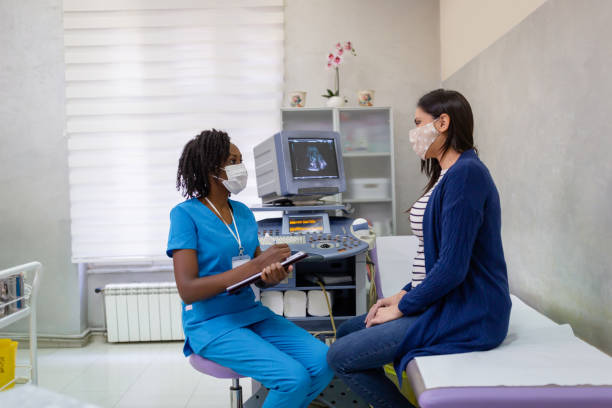with mask: (401, 79, 467, 178), (185, 119, 252, 196)
